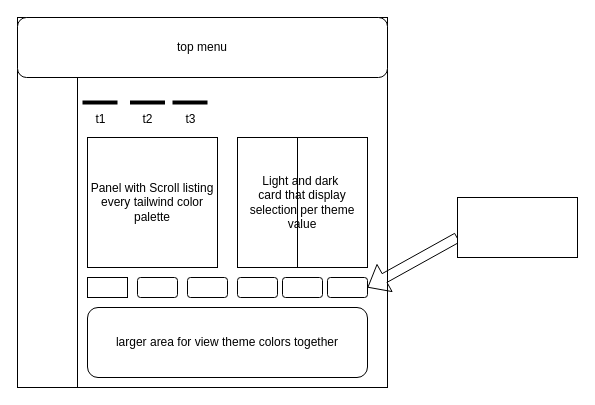
This 595x405 diagram has some shape labels left out. The shapes that lost their labels are listed below. From the top down, each one's centre as x and y in pixels, then its label:
(x=47, y=222): Sidebar
(x=517, y=227): Carousel of pre-built themes
